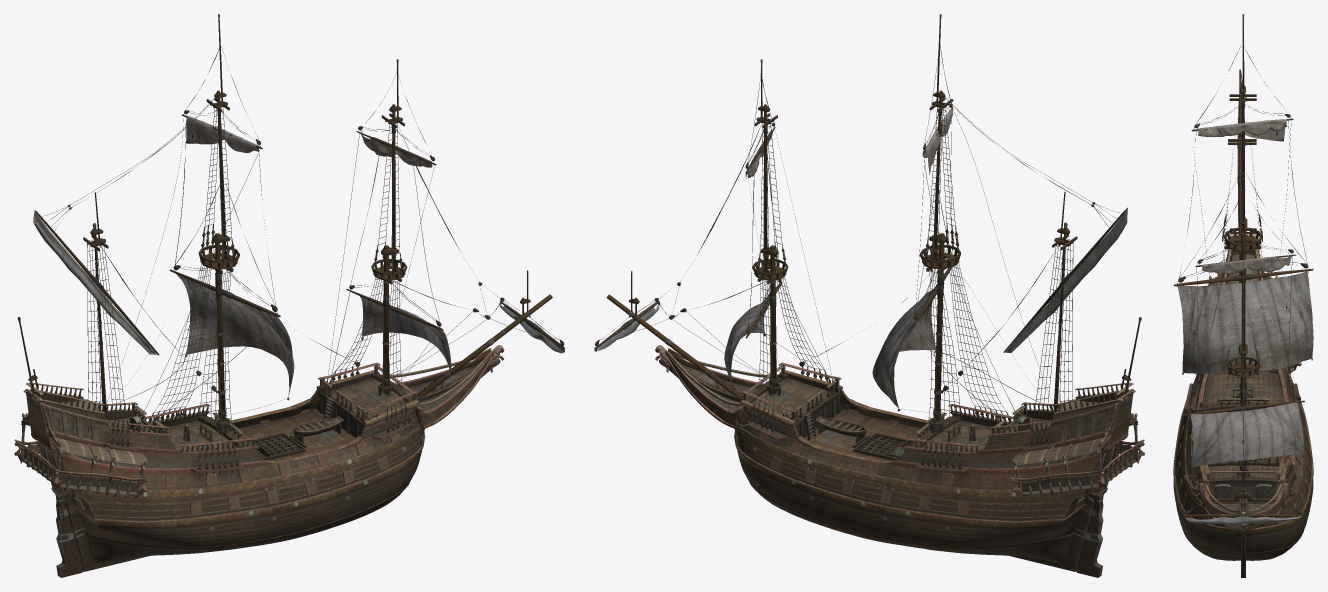
Rendered from galleon.gltf.
The picture shows the model from 3 angles, left to right: view 1: azimuth 30°, elevation 25°; view 2: azimuth 150°, elevation 25°; view 3: azimuth 270°, elevation 25°; orthographic projection. The views are drawn at different scales.
Visible parts, largest first — view 1: dutch_ship_large_01_hull, dutch_ship_large_01_rigging, dutch_ship_large_01_sails; view 2: dutch_ship_large_01_hull, dutch_ship_large_01_rigging, dutch_ship_large_01_sails; view 3: dutch_ship_large_01_sails, dutch_ship_large_01_hull, dutch_ship_large_01_rigging.
Boxes of the visible parts, x1=… form: dutch_ship_large_01_hull: x1=14, y1=345, x2=504, y2=577; dutch_ship_large_01_rigging: x1=17, y1=14, x2=565, y2=482; dutch_ship_large_01_sails: x1=176, y1=116, x2=451, y2=396; dutch_ship_large_01_hull: x1=655, y1=345, x2=1144, y2=577; dutch_ship_large_01_rigging: x1=594, y1=14, x2=1141, y2=479; dutch_ship_large_01_sails: x1=724, y1=109, x2=952, y2=408; dutch_ship_large_01_sails: x1=1178, y1=119, x2=1313, y2=467; dutch_ship_large_01_hull: x1=1173, y1=235, x2=1313, y2=577; dutch_ship_large_01_rigging: x1=1173, y1=14, x2=1313, y2=524.
Size of the model in its own units: 34.25 by 32.08 by 8.39.
Materials: 3 (3 with a texture image).
